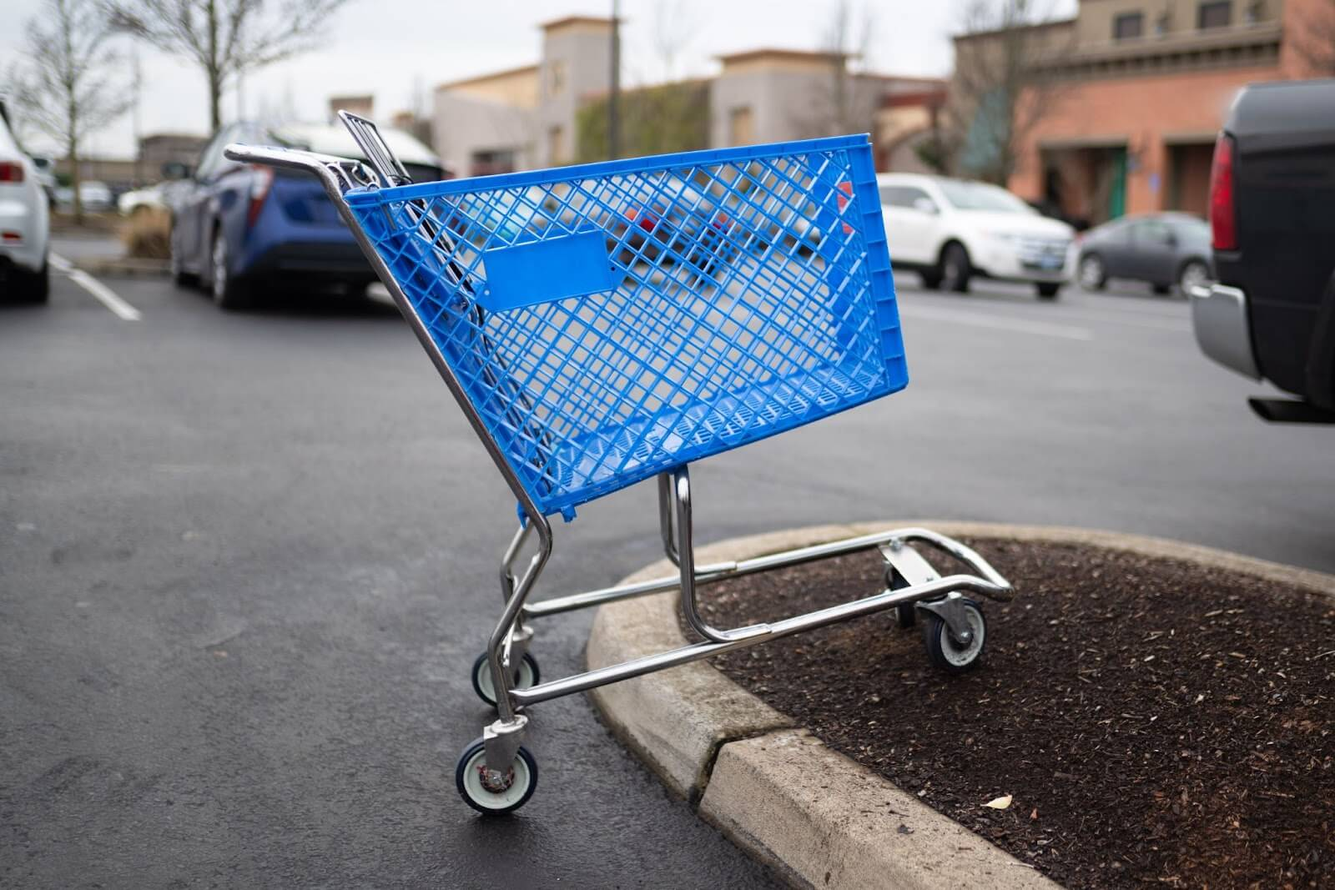Car: (879, 174, 1105, 312)
shopping_cart: (224, 113, 1065, 824)
